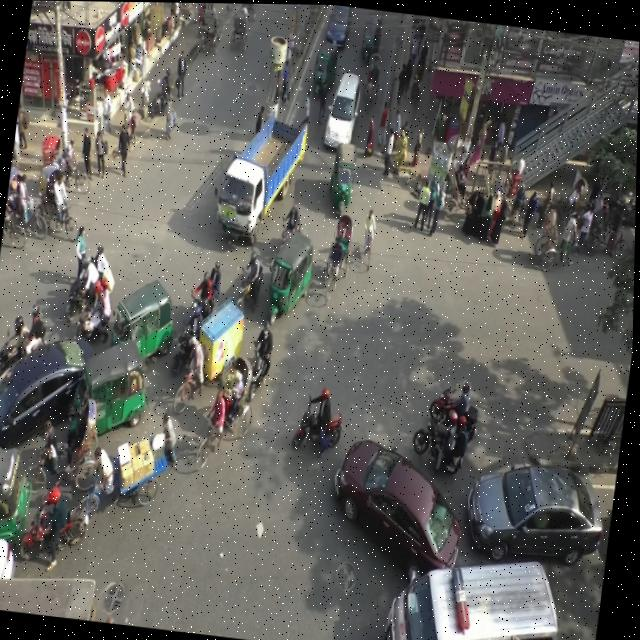cng: (63, 340, 155, 444), (109, 259, 183, 372), (261, 222, 324, 330), (0, 440, 50, 550), (302, 27, 345, 113), (323, 132, 365, 218)
rikshaw: (191, 348, 261, 474), (33, 123, 105, 208), (528, 196, 596, 284), (28, 159, 89, 247), (319, 206, 362, 304), (441, 153, 488, 232), (186, 2, 230, 65), (362, 37, 393, 115), (221, 3, 259, 59)
